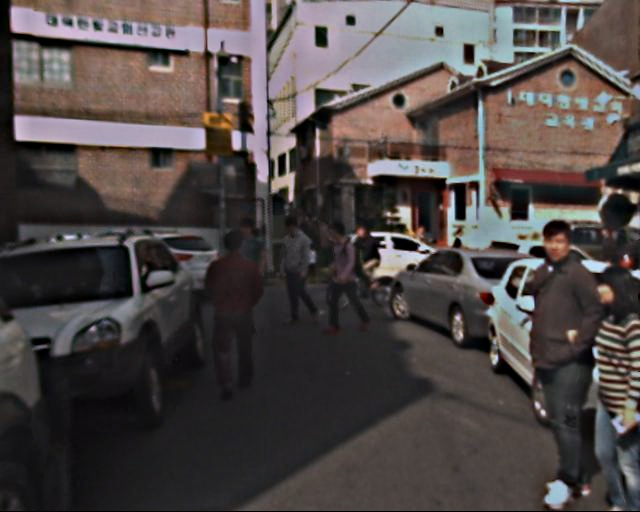person: (505, 221, 621, 503), (571, 266, 640, 508), (199, 232, 267, 397), (222, 219, 271, 339), (271, 211, 318, 326), (318, 222, 365, 336), (349, 223, 380, 299), (595, 225, 624, 296), (298, 210, 325, 277), (449, 227, 470, 277), (413, 224, 432, 270)
